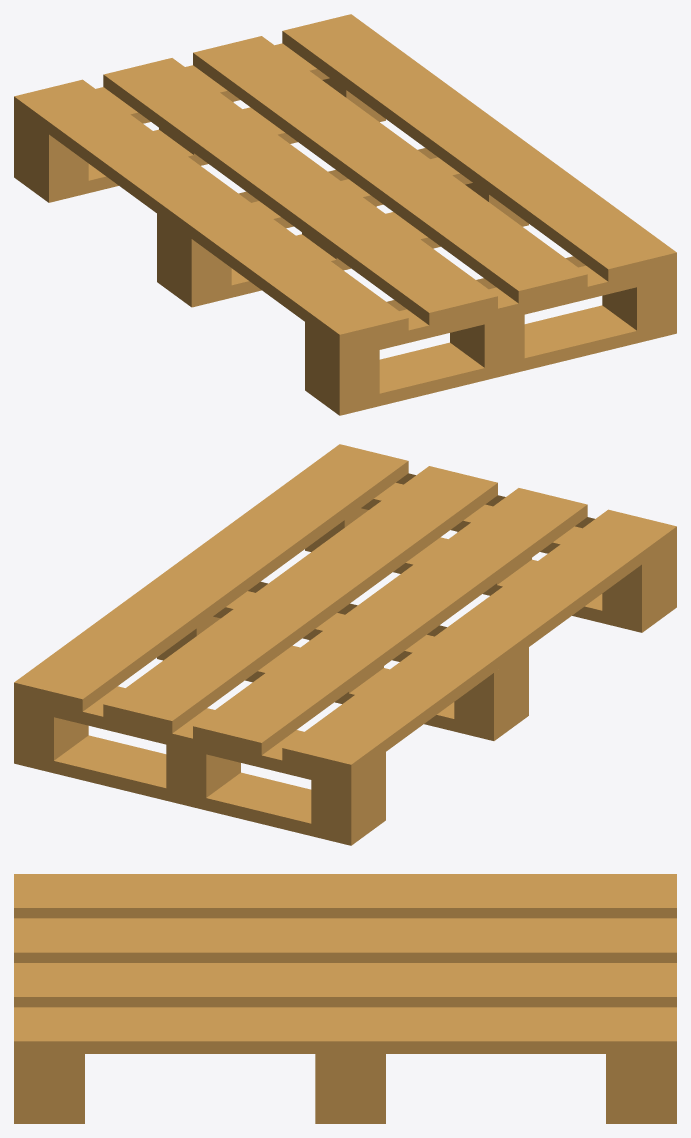
The model's file is palette.fbx.
The picture shows the model from 3 angles, top to bottom: view 1: azimuth 30°, elevation 25°; view 2: azimuth 150°, elevation 25°; view 3: azimuth 270°, elevation 25°; orthographic projection.
Visible parts, largest first — view 1: Plane.000; view 2: Plane.000; view 3: Plane.000.
Boxes of the visible parts, left/top/right/bottom form: Plane.000: left=14, top=14, right=676, bottom=415; Plane.000: left=14, top=444, right=676, bottom=845; Plane.000: left=14, top=874, right=676, bottom=1123.
Size of the model in its own units: 102 by 23.42 by 171.
